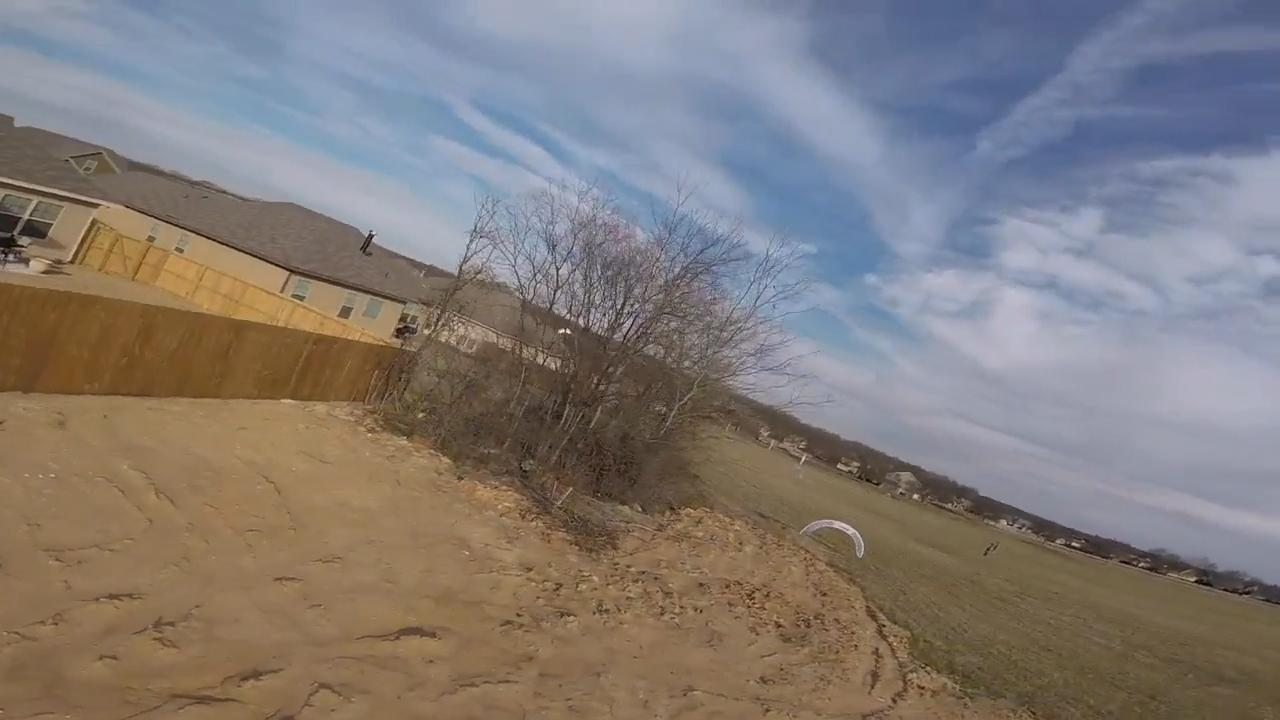gate: (797, 517, 866, 561)
